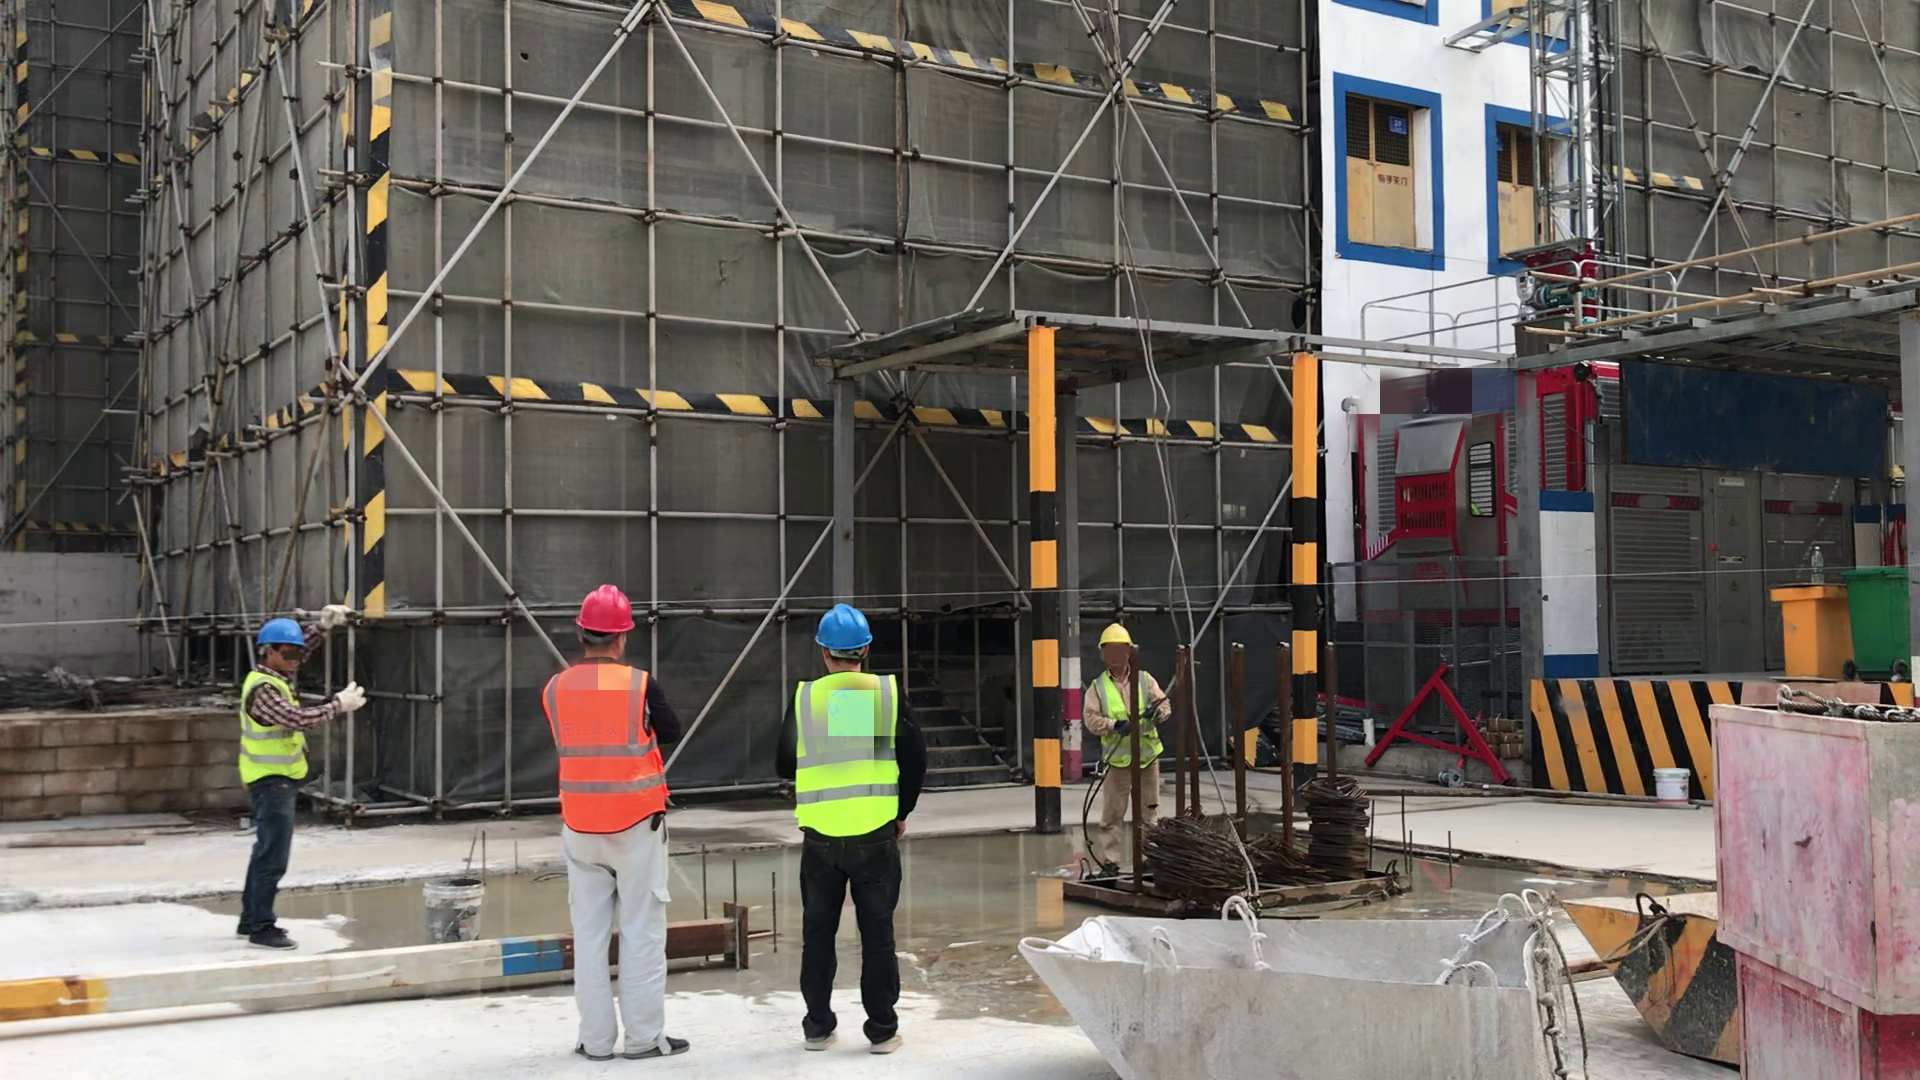helmet: (815, 601, 874, 650), (252, 613, 309, 651), (572, 591, 632, 627), (1100, 620, 1133, 650)
person: (536, 591, 704, 1068), (781, 606, 907, 1061), (236, 612, 373, 948), (1084, 622, 1171, 875)
vest: (544, 662, 676, 836), (799, 677, 902, 838), (240, 671, 309, 786), (1094, 668, 1163, 768)
